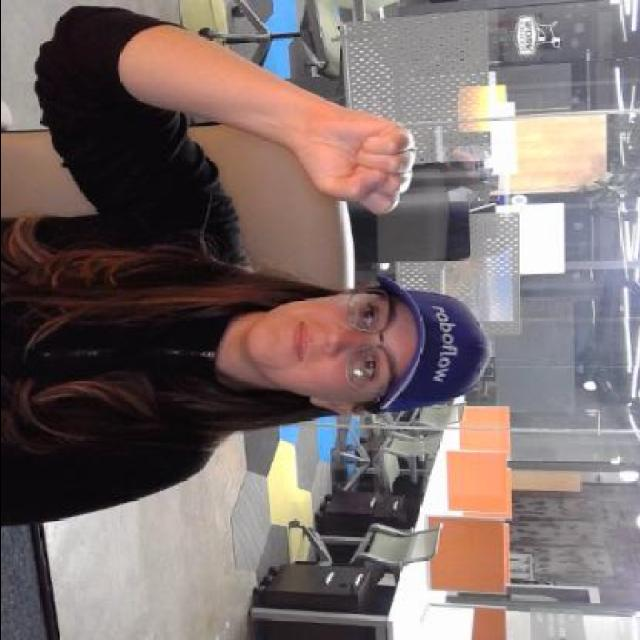Rock: (296, 115, 422, 212)
